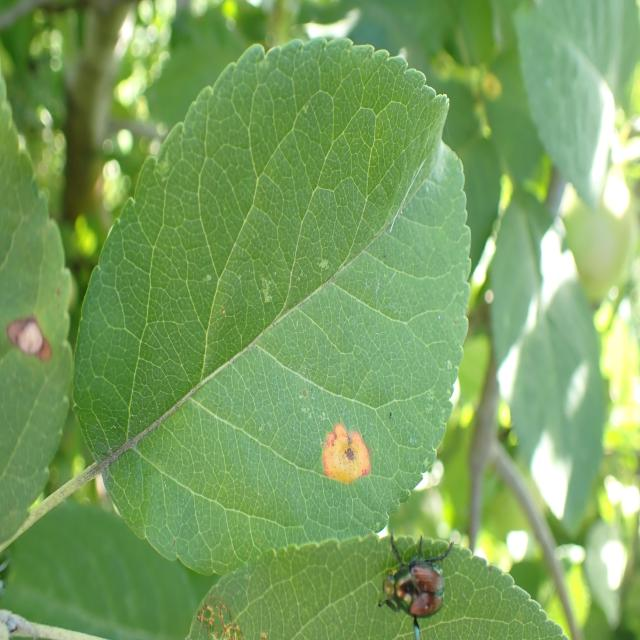Rust: (312, 395, 374, 511)
